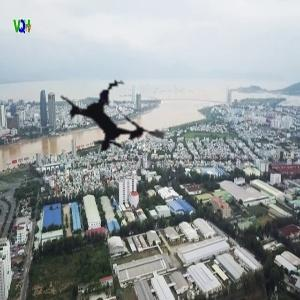drone: (29, 39, 193, 203)
